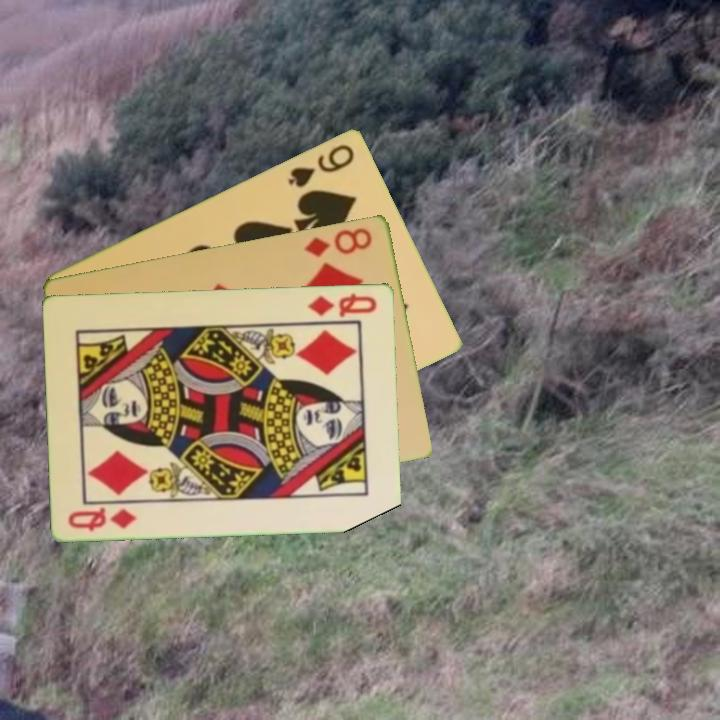8d: (301, 224, 375, 260)
9s: (284, 140, 358, 190)
Qd: (304, 289, 380, 320), (65, 503, 140, 533)
